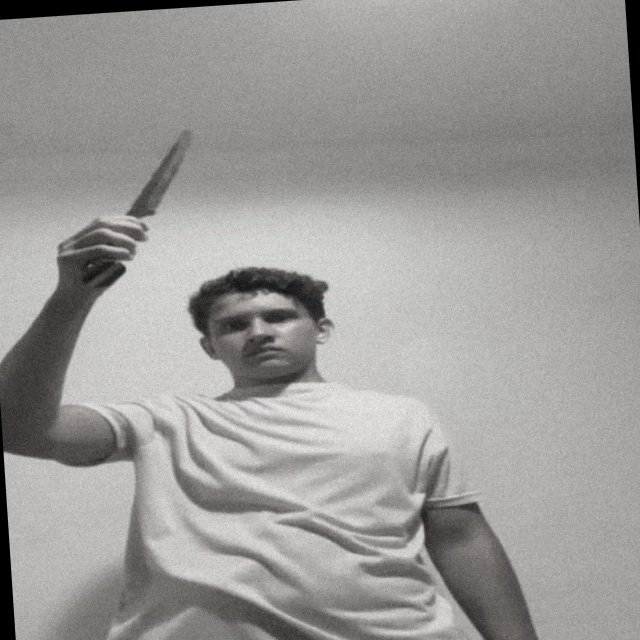Sharp-Object: (128, 131, 196, 217)
